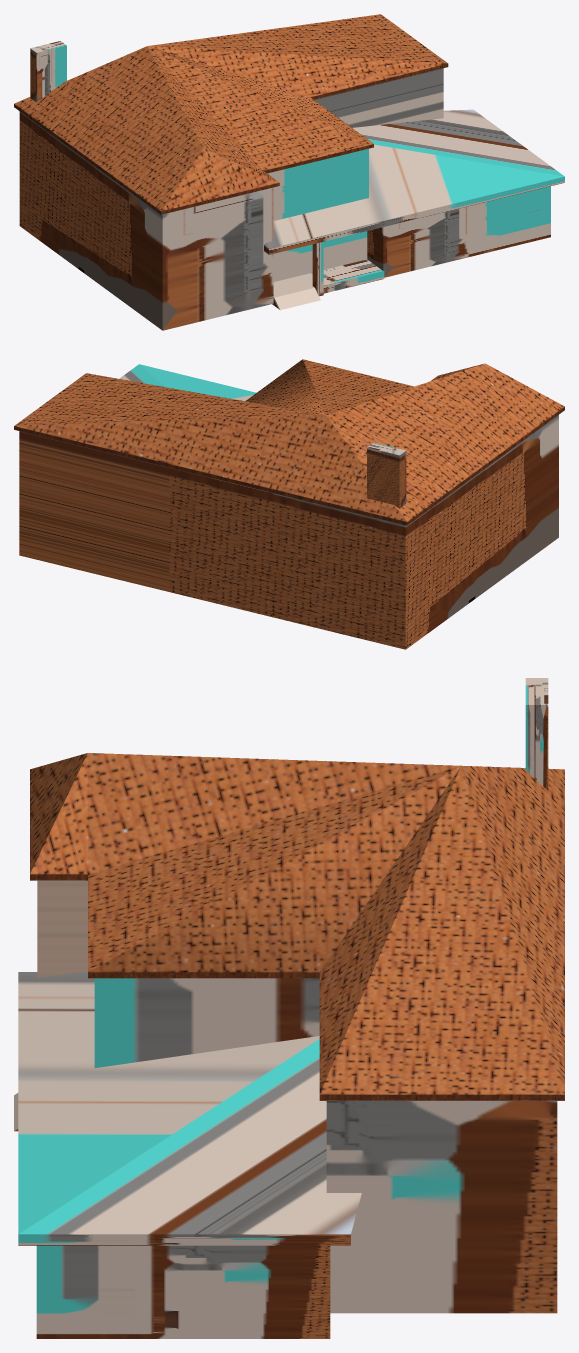
The model's file is mansion-collision.glb.
3 renders of one model, top to bottom at view 1: azimuth 30°, elevation 25°; view 2: azimuth 150°, elevation 25°; view 3: azimuth 270°, elevation 25°, orthographic. The views are drawn at different scales.
Parts seen in each view (by area): view 1: collision; view 2: collision; view 3: collision.
Part boxes in pixels (<box>): collision: <box>14,14,564,330</box>; collision: <box>14,359,564,649</box>; collision: <box>14,678,564,1338</box>.
Size of the model in its own units: 3.68 by 1.58 by 2.42.
1 material, 1 textured.
